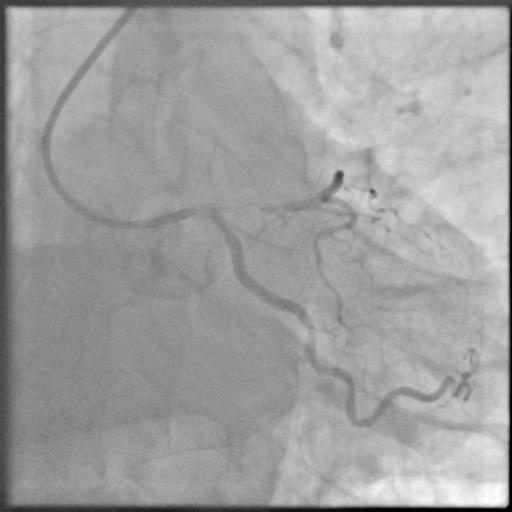Stenosis: (217, 198, 293, 213)
